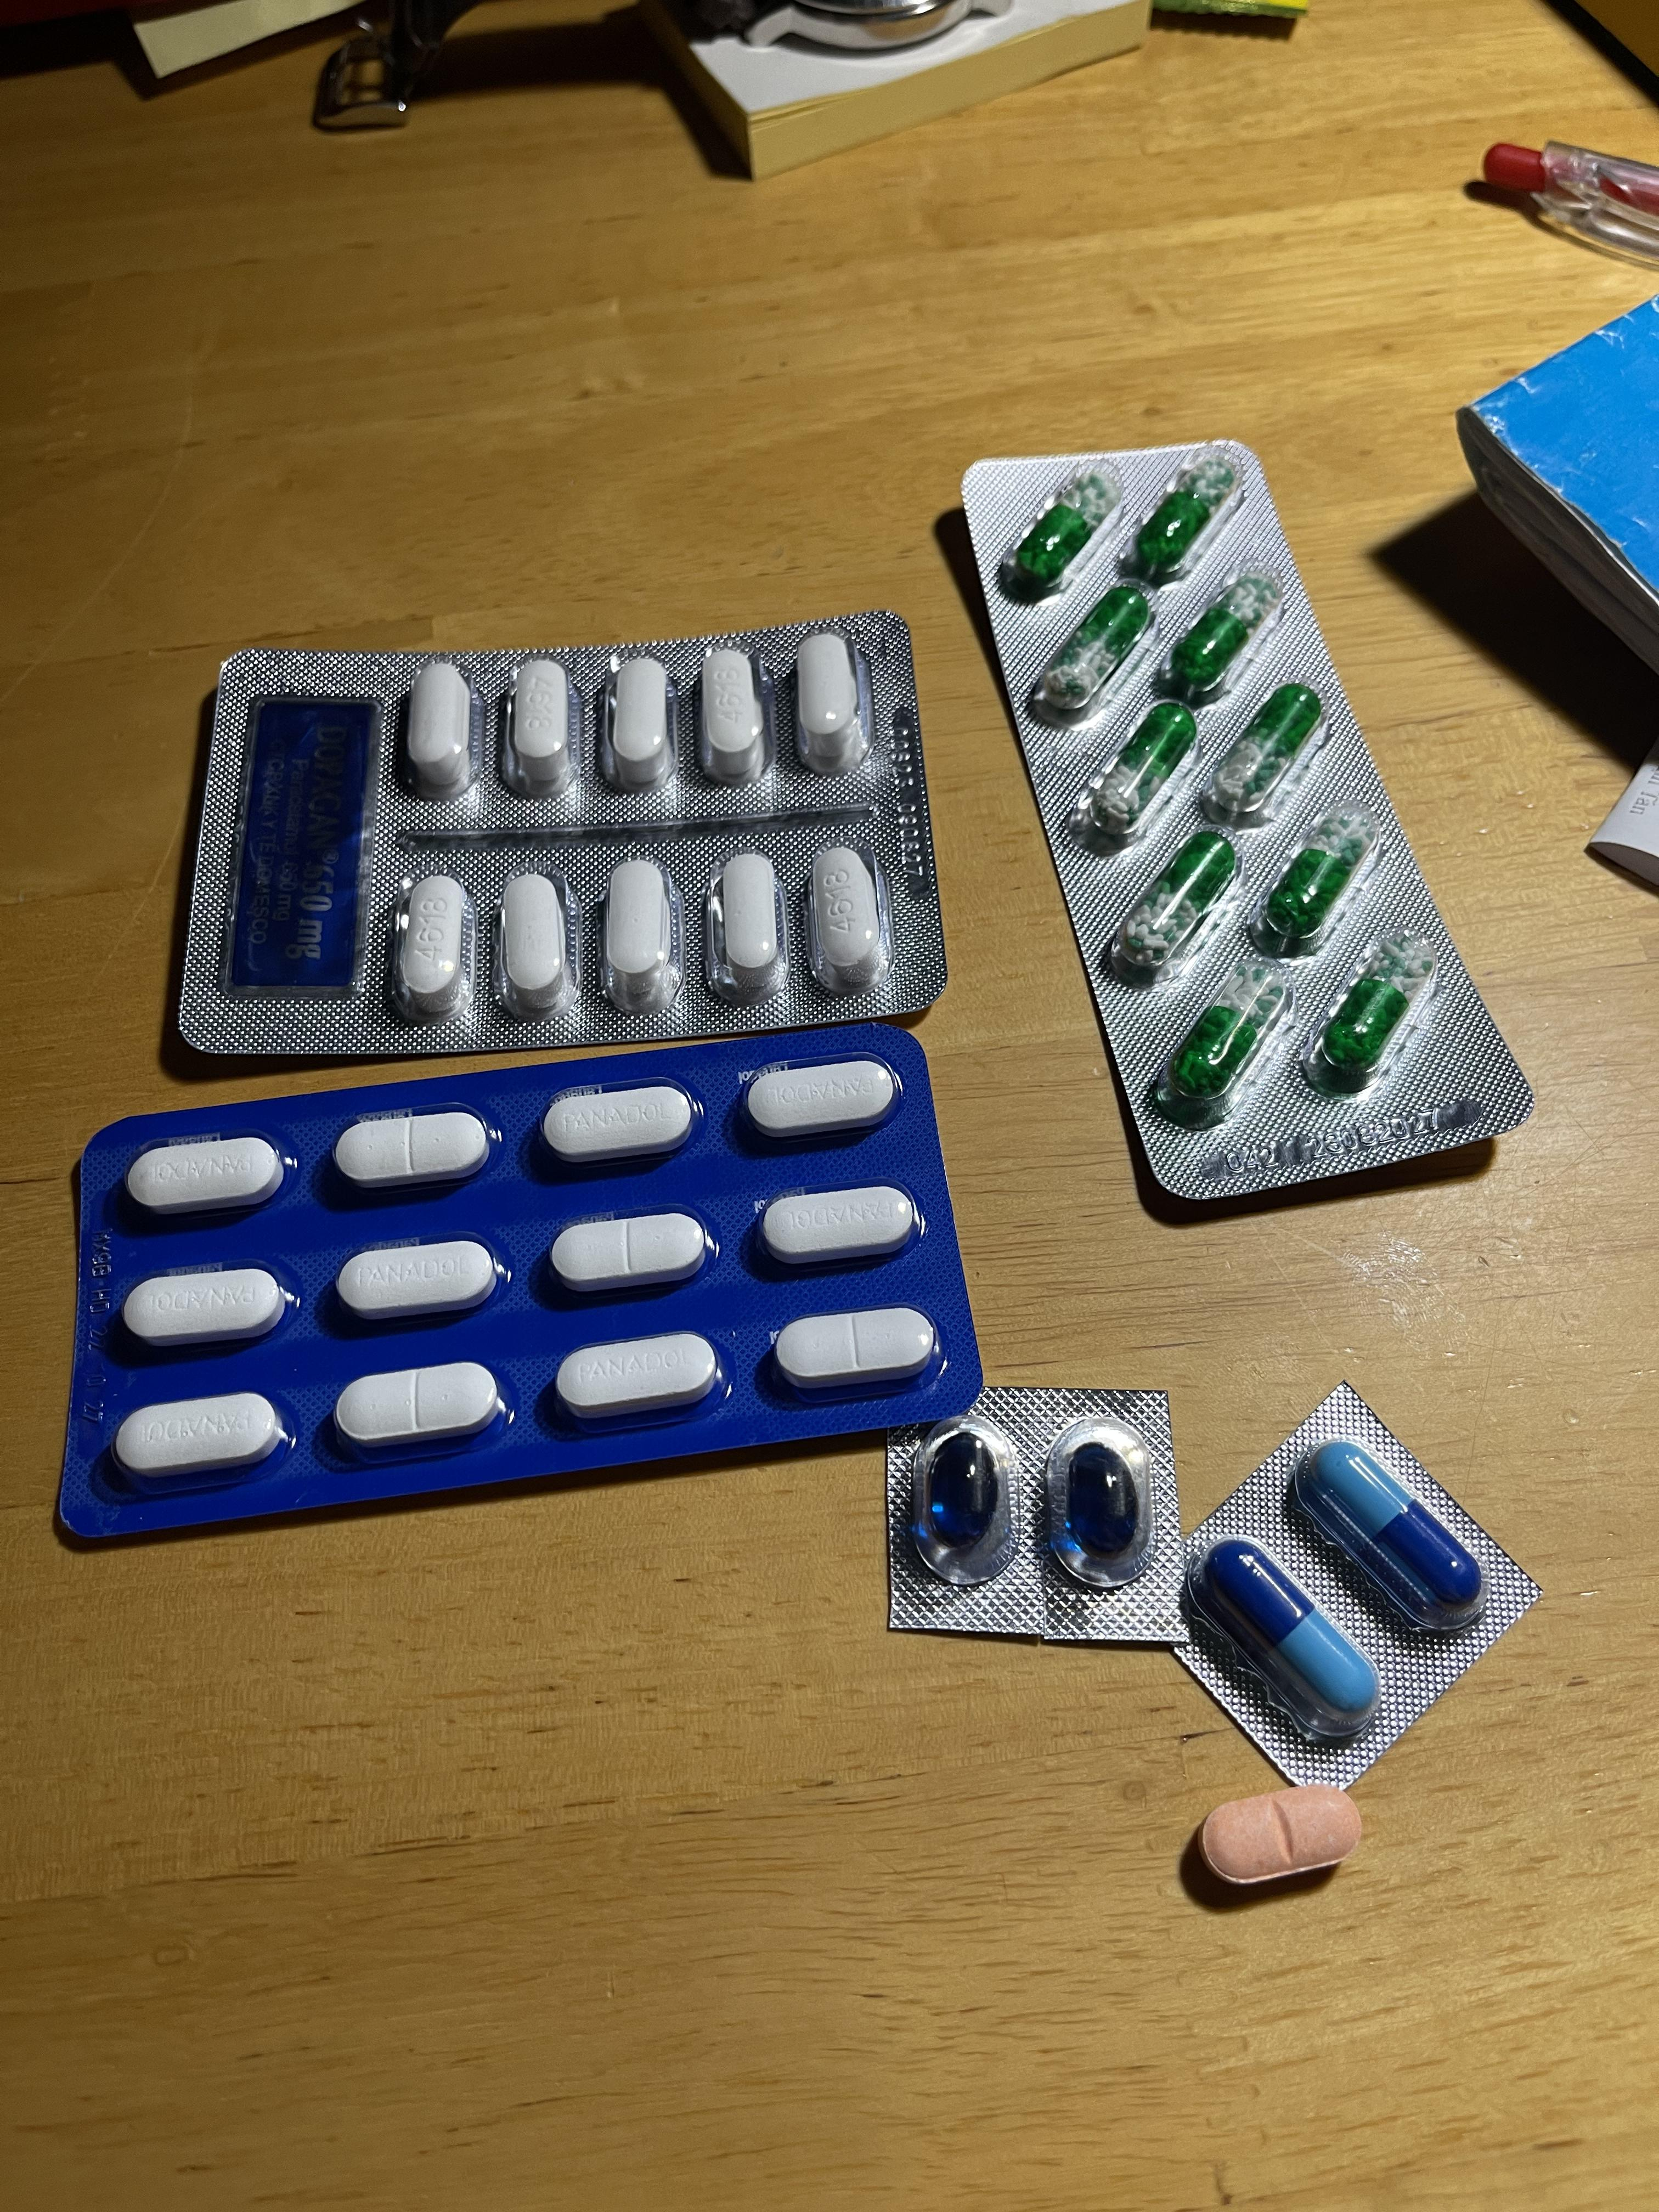Lincomyxin_500mg: (924, 1433, 999, 1548), (1065, 1442, 1140, 1555)
Loratadine_10mg: (1197, 1784, 1363, 1888)
Paracetamol_350mg: (113, 1392, 286, 1480), (556, 1331, 721, 1423), (336, 1362, 500, 1451), (777, 1305, 936, 1393), (122, 1264, 288, 1346), (338, 1237, 498, 1320), (125, 1134, 284, 1216), (554, 1211, 711, 1292), (760, 1186, 918, 1266), (742, 1061, 897, 1143), (335, 1106, 490, 1188), (540, 1083, 695, 1165)
Paracetamol_500mg: (809, 843, 885, 991), (603, 859, 676, 1012), (796, 634, 868, 773), (502, 873, 572, 1014), (605, 655, 674, 792), (718, 852, 784, 993), (408, 667, 476, 801), (697, 648, 765, 782), (401, 876, 469, 1010), (509, 658, 572, 792)
Paracetamol_650mg: (1145, 960, 1291, 1130), (1300, 930, 1441, 1097), (1248, 796, 1384, 956), (1110, 827, 1237, 979), (1202, 679, 1326, 827), (1079, 697, 1201, 846), (1162, 564, 1281, 702), (1002, 463, 1121, 597), (1037, 583, 1154, 714), (1131, 448, 1241, 582)
pill: (1208, 1540, 1378, 1723), (1310, 1444, 1481, 1616)
